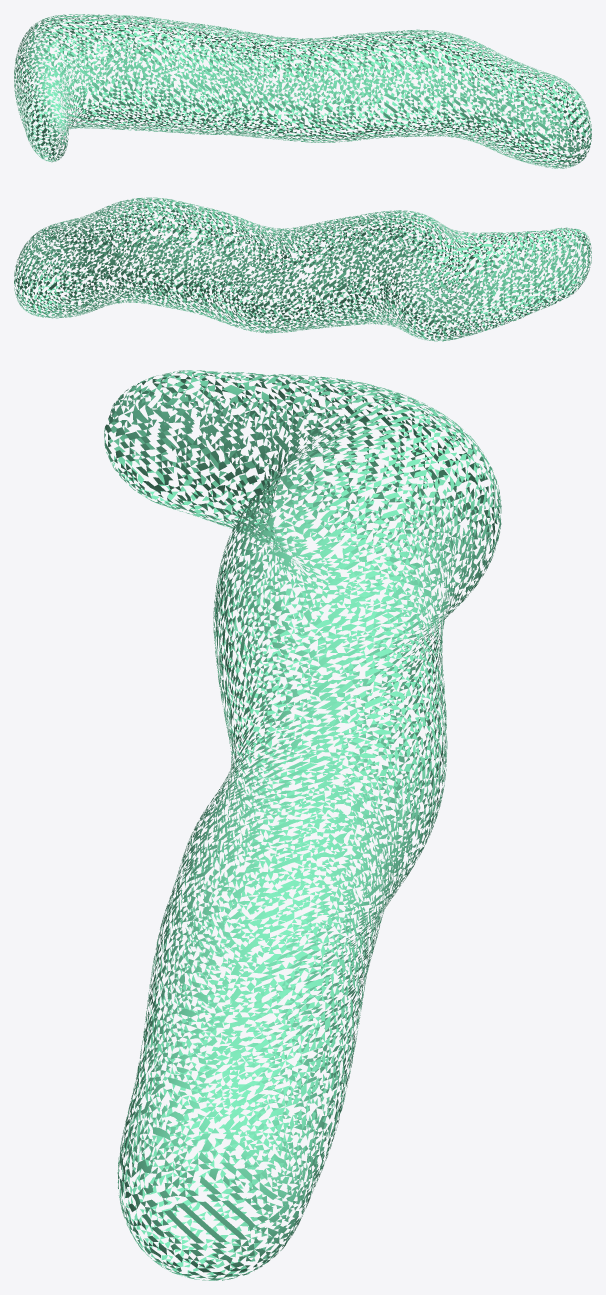
File: healthy.glb
The picture shows the model from 3 angles, top to bottom: view 1: azimuth 30°, elevation 25°; view 2: azimuth 150°, elevation 25°; view 3: azimuth 270°, elevation 25°; orthographic projection. The views are drawn at different scales.
Bounding box in the file's own units: 118 × 45.03 × 37.26.
